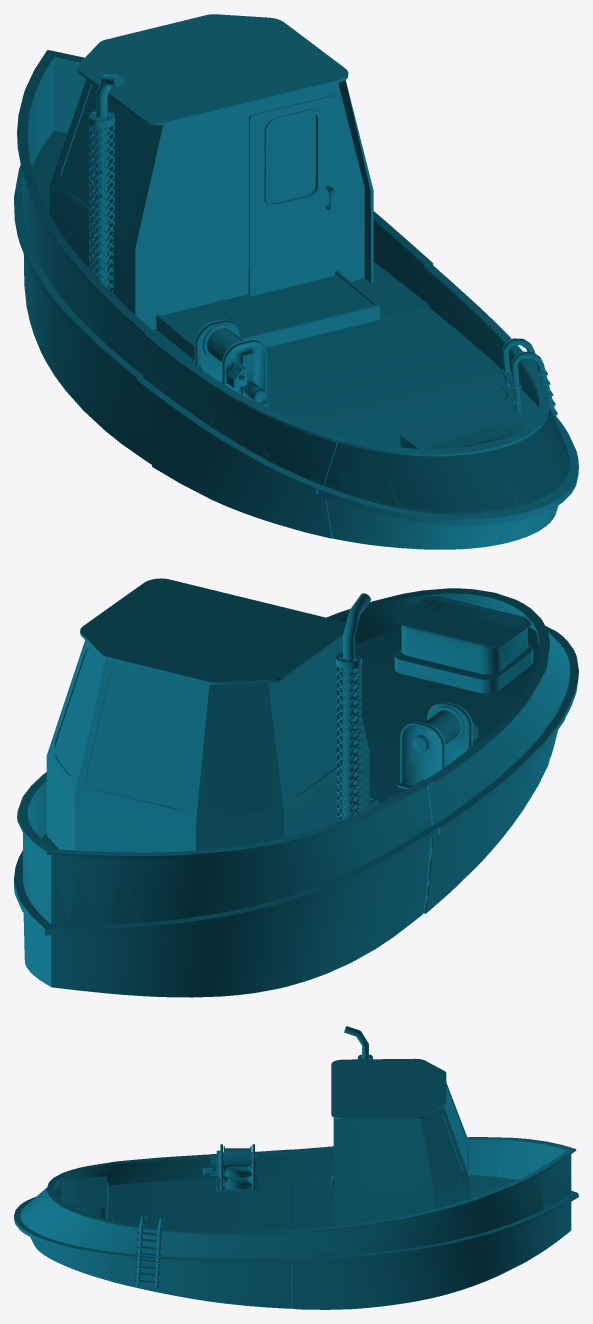
File: barco low uv.fbx
3 views of the same model, one above another, from view 1: azimuth 30°, elevation 25°; view 2: azimuth 150°, elevation 25°; view 3: azimuth 270°, elevation 25° (orthographic). The views are drawn at different scales.
Parts seen in each view (by area): view 1: hull_1; view 2: hull_1; view 3: hull_1.
Boxes of the visible parts, left/top/right/bottom form: hull_1: left=14, top=14, right=578, bottom=549; hull_1: left=14, top=578, right=578, bottom=997; hull_1: left=14, top=1026, right=578, bottom=1309.
Size of the model in its own units: 148 by 165 by 405.
